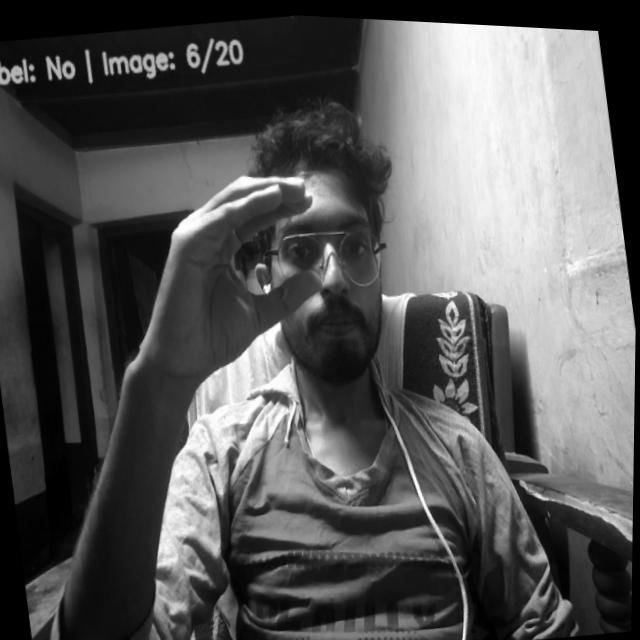No: (123, 158, 343, 404)
